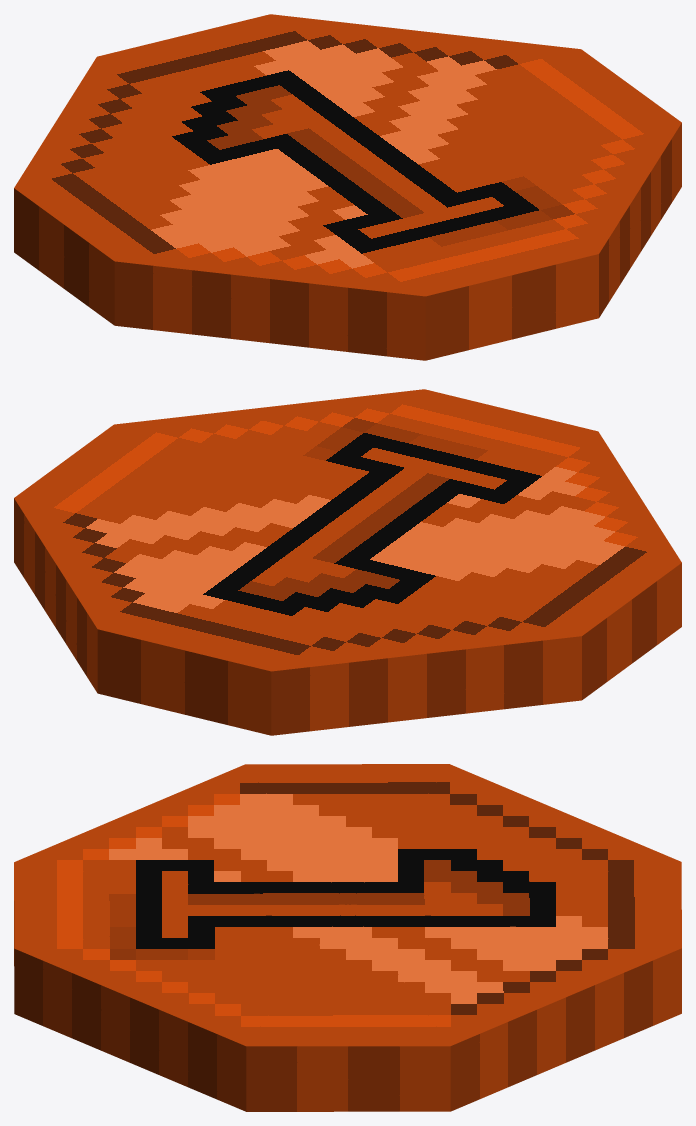
File: Cooper coin.obj
The picture shows the model from 3 angles, top to bottom: view 1: azimuth 30°, elevation 25°; view 2: azimuth 150°, elevation 25°; view 3: azimuth 270°, elevation 25°; orthographic projection.
Visible parts, largest first — view 1: CooperCoin; view 2: CooperCoin; view 3: CooperCoin.
Part boxes in pixels (x1,y1,x2,y2): CooperCoin: (14,14,681,360); CooperCoin: (14,389,681,735); CooperCoin: (14,764,681,1111).
Size of the model in its own units: 0.3328 by 0.036 by 0.3328.
